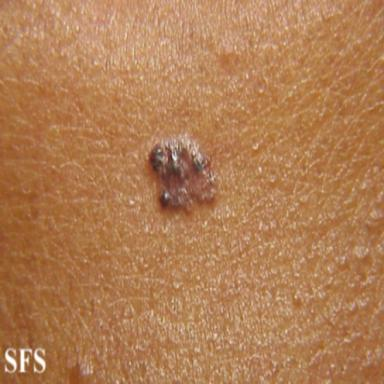basal-cell-carcinoma: (145, 134, 216, 213)
